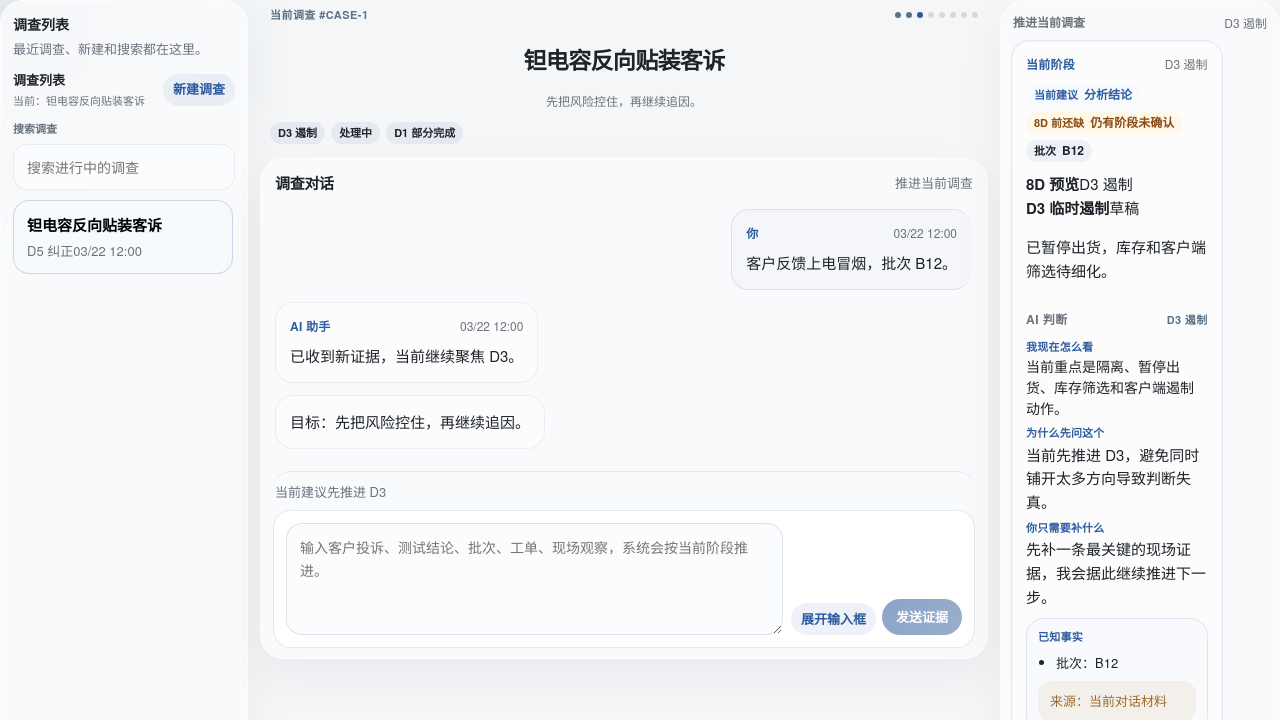
Workspace › shows an action-plan recommendation card after fresh evidence makes the case actionable
expect the heading "钽电容反向贴装客诉" is shown: met, box [270,33,978,83]
Type "发生原因侧永久措施已经确定，流出原因侧也补了拦截和检查动作。" into the text box named "证据输入框".
click(534, 579); type("发生原因侧永久措施已经确定，流出原因侧也补了拦截和检查动作。")  # box [286,523,783,635]
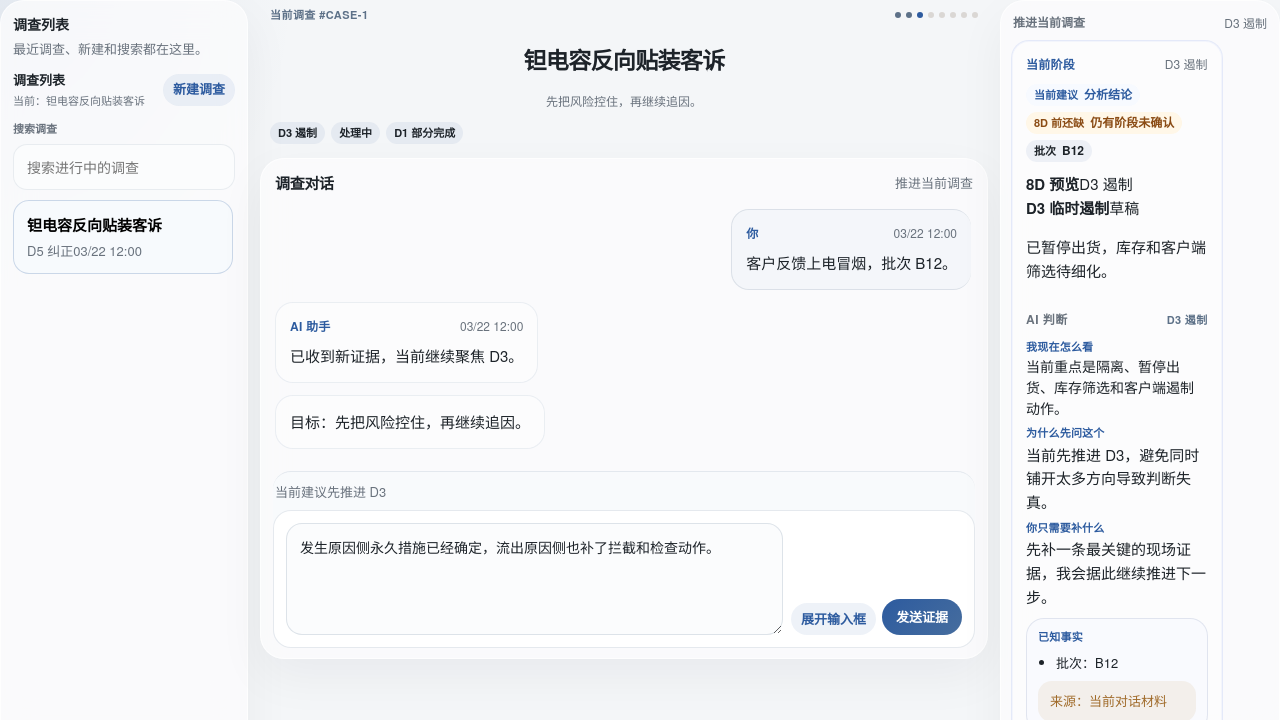
Click the button "发送证据".
click(922, 617)  # box [882,599,962,635]
(page scrolled)
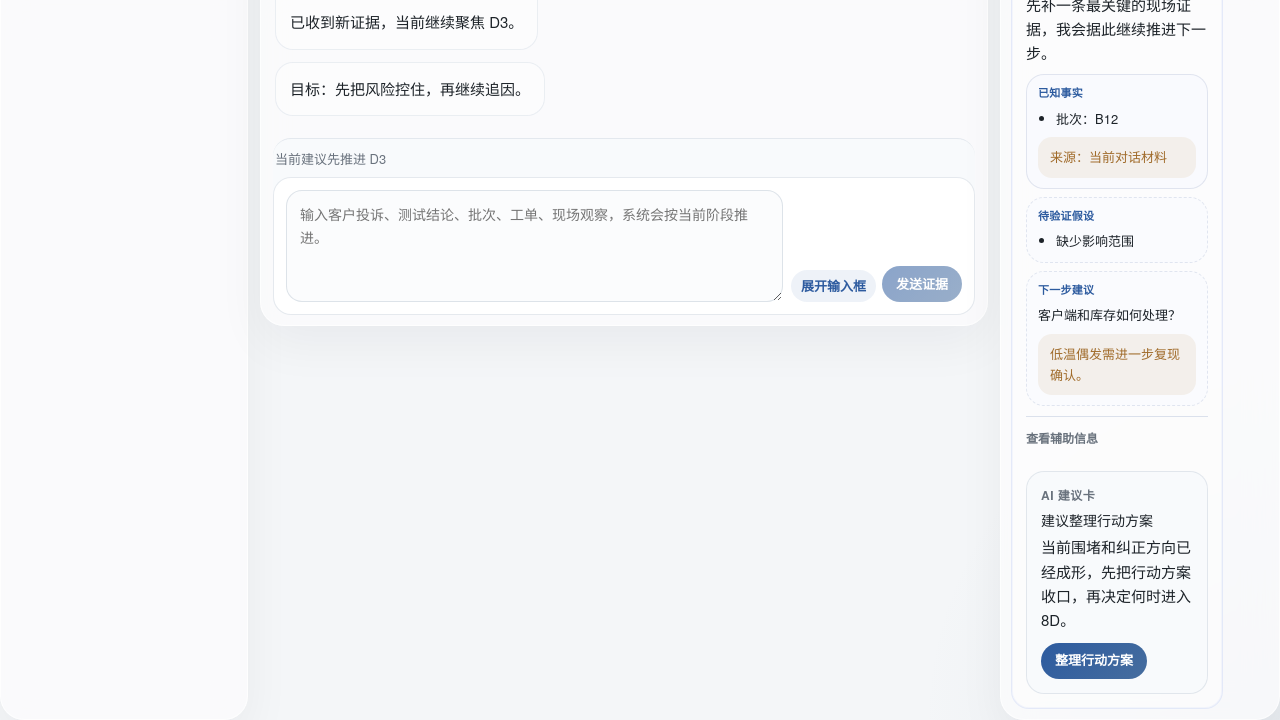
expect the text "建议整理行动方案" is shown: met, box [1041,510,1153,530]
expect the button "整理行动方案" is shown: met, box [1041,643,1147,679]
